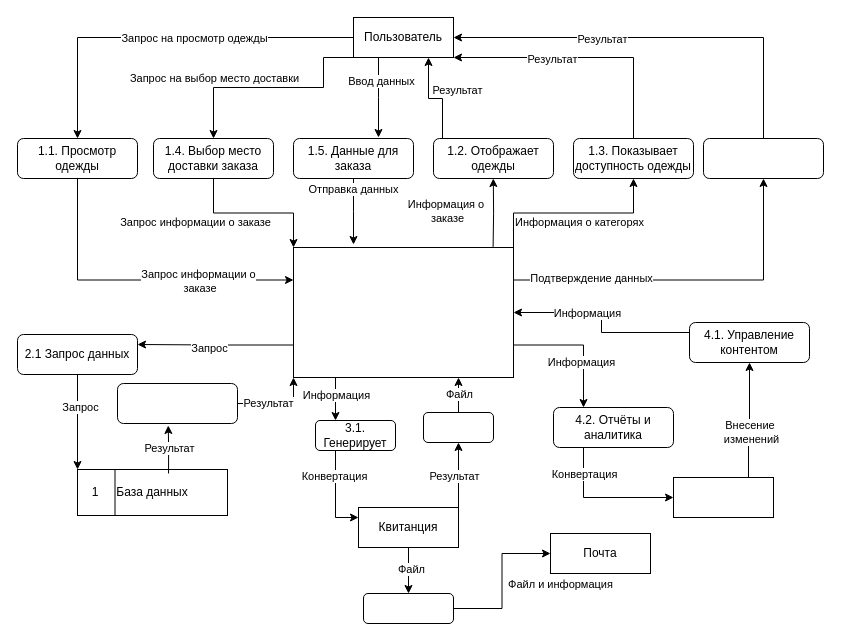
Image size: 841x641. Some labels were removed from this diagram. The centre of each missing label's shape, as x and y in pixels:
"1.6. Подтверждение заказа" goes at [763,158].
"2.2 Возврат данных" goes at [177,403].
"3.2. Сохраняет" goes at [458,427].
"3.3. Отправляет" goes at [408,608].
"Администратор" goes at [723,497].
"Интернет-магазин «Одежда»" goes at [403,312].
